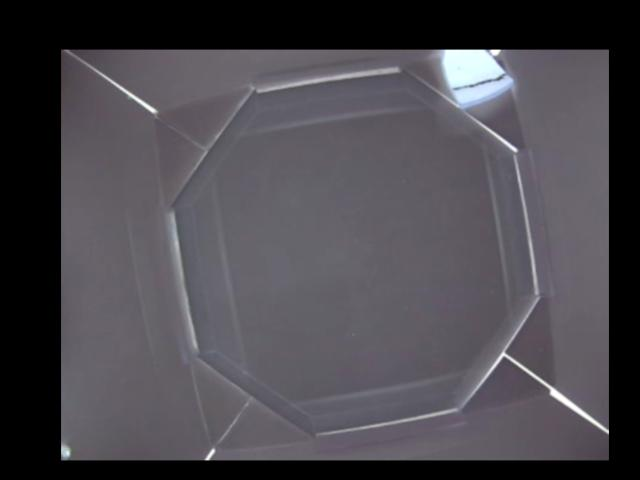China: (431, 50, 514, 110)
